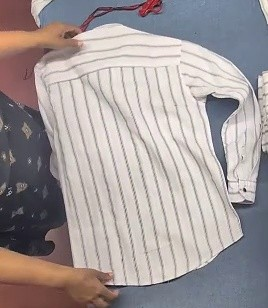T_SHIRT: (0, 72, 268, 249)
